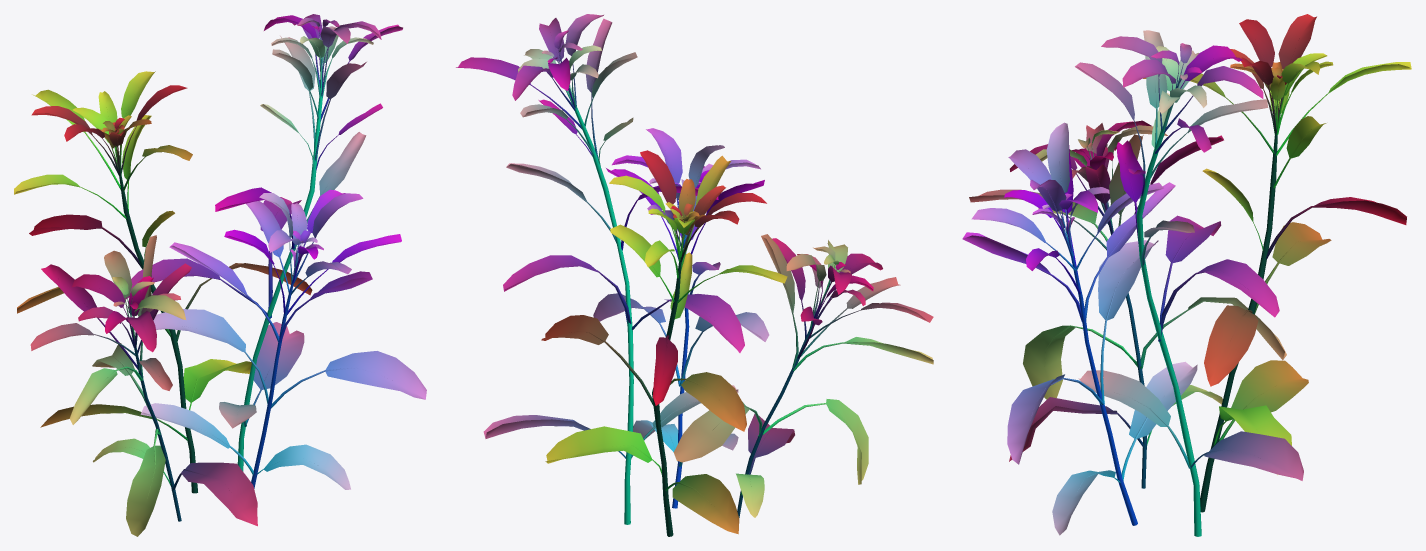
Rendered from Sage_ve3gbfoja_Mid_ve3gbfoja_VarE_LOD0.fbx.
The picture shows the model from 3 angles, left to right: view 1: azimuth 30°, elevation 25°; view 2: azimuth 150°, elevation 25°; view 3: azimuth 270°, elevation 25°; orthographic projection. The views are drawn at different scales.
Visible parts, largest first — view 1: _vvkn_VarE_LOD1; view 2: _vvkn_VarE_LOD1; view 3: _vvkn_VarE_LOD1.
Boxes of the visible parts, x1,y1,x2,y2 form: _vvkn_VarE_LOD1: [14, 14, 426, 536]; _vvkn_VarE_LOD1: [456, 14, 933, 536]; _vvkn_VarE_LOD1: [962, 14, 1411, 536].
Size of the model in its own units: 54.51 by 57.35 by 43.74.
